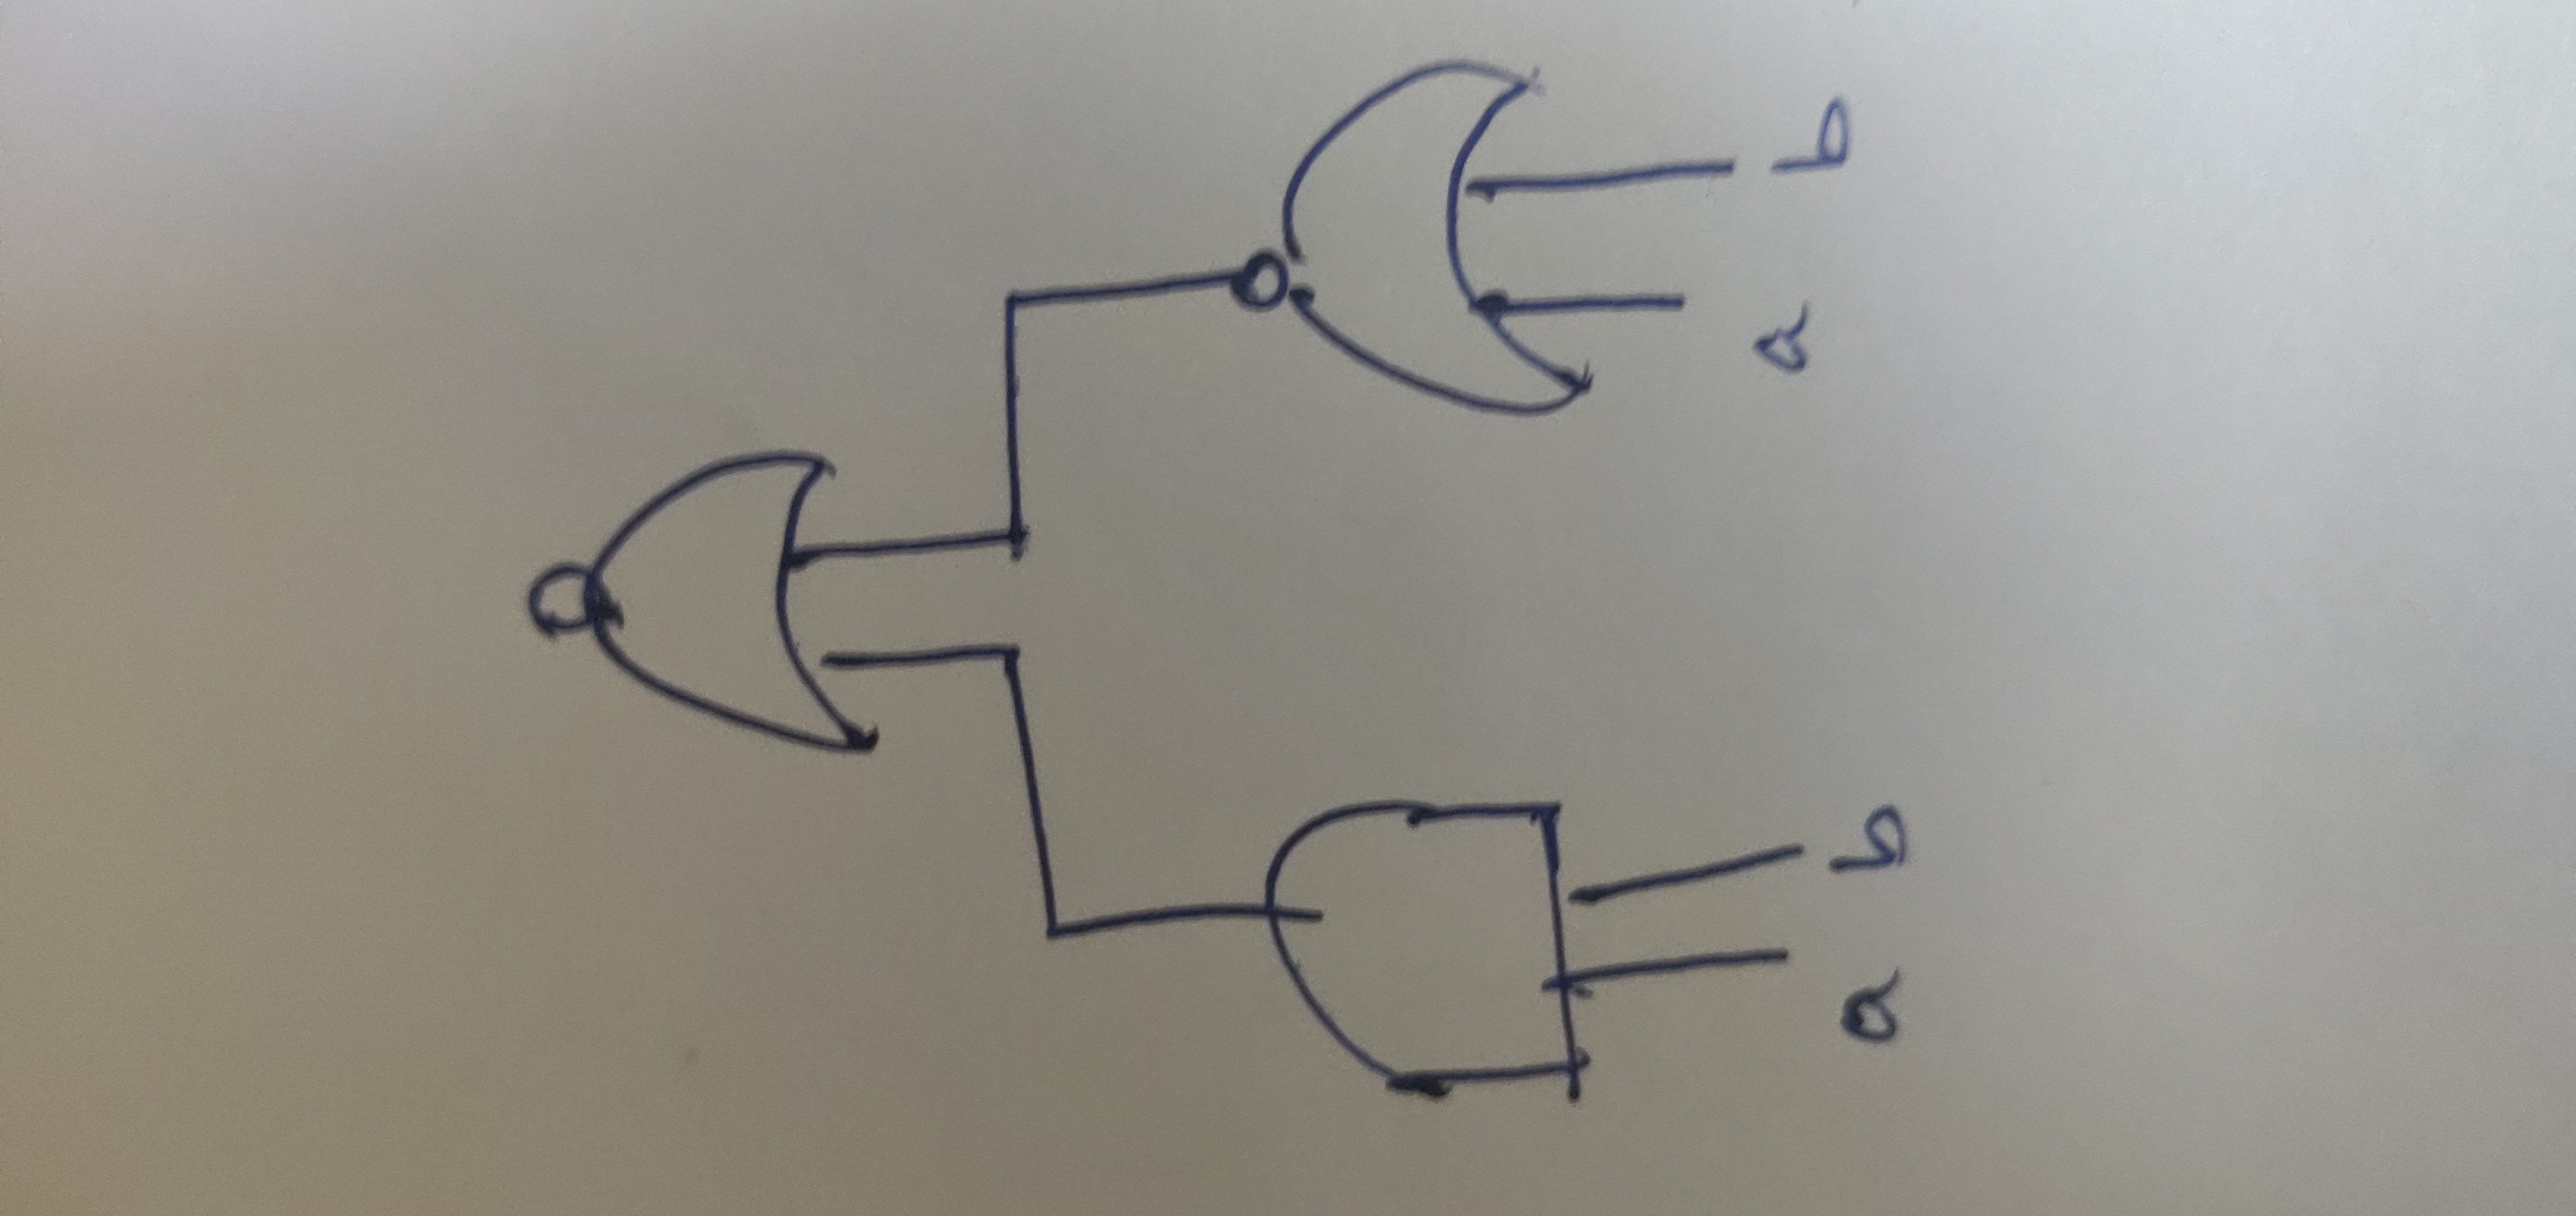and: (1222, 766, 1636, 1124)
nor: (1183, 36, 1620, 493), (511, 414, 900, 792)
